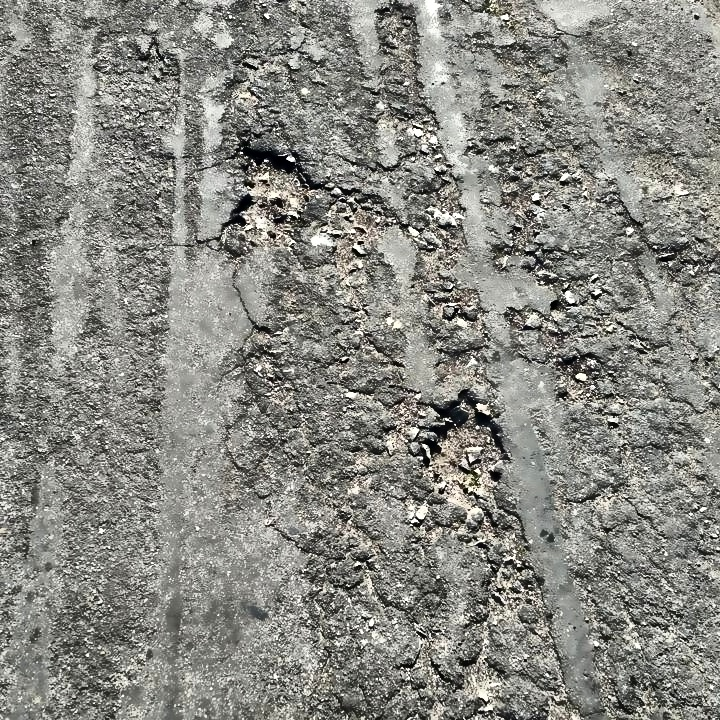pothole: (420, 386, 511, 506), (223, 139, 314, 250)
